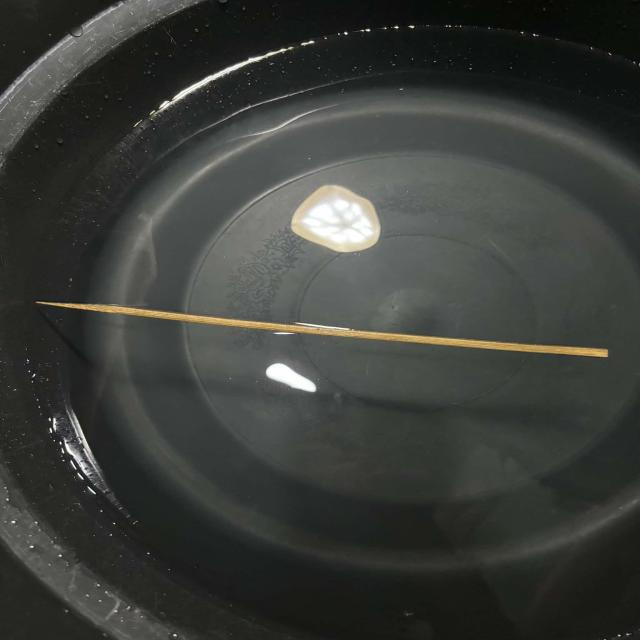Wood Stick: (36, 301, 608, 358)
